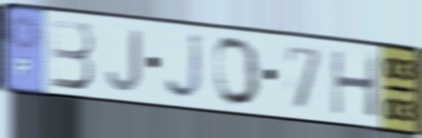7: (283, 43, 324, 113)
B: (49, 16, 97, 92)
H: (329, 47, 381, 121)
J: (163, 31, 206, 103), (104, 27, 144, 95)
O: (212, 35, 263, 109)
